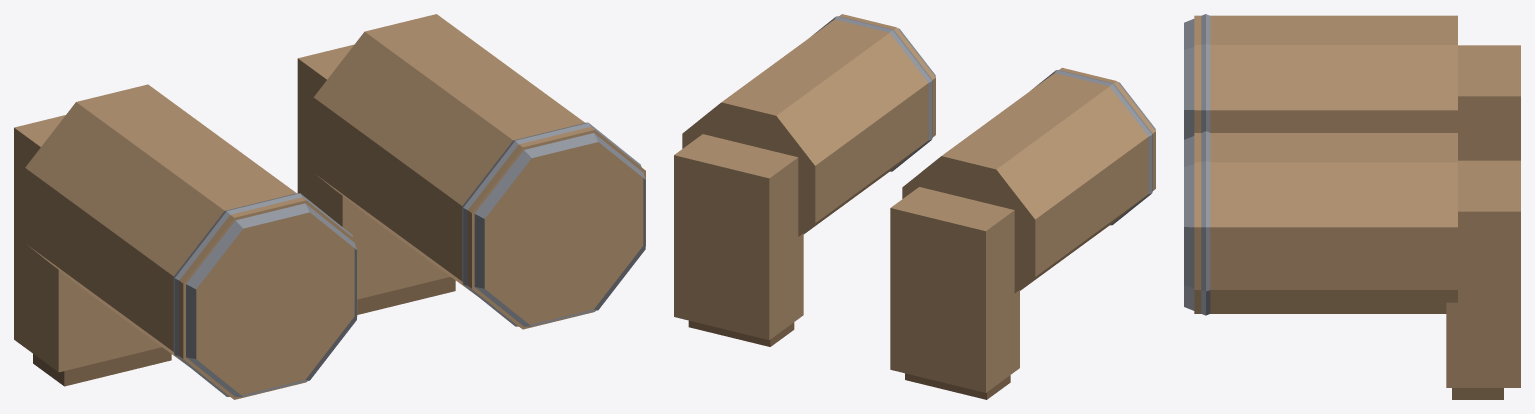
Rendered from boots_tall.glb.
3 views of the same model, side by side, from view 1: azimuth 30°, elevation 25°; view 2: azimuth 150°, elevation 25°; view 3: azimuth 270°, elevation 25° (orthographic). The views are drawn at different scales.
Parts seen in each view (by area): view 1: LowerLegL, LowerLegR, FootR, FootL; view 2: LowerLegR, LowerLegL, FootL, FootR; view 3: LowerLegL, LowerLegR, FootL, FootR.
Part boxes in pixels (box(x1,y1,x2,y2)): LowerLegL: box(313, 14, 645, 329); LowerLegR: box(25, 84, 357, 399); FootR: box(14, 115, 171, 386); FootL: box(297, 44, 455, 314); LowerLegR: box(902, 67, 1155, 293); LowerLegL: box(682, 14, 935, 236); FootL: box(674, 134, 803, 346); FootR: box(890, 187, 1019, 399); LowerLegL: box(1184, 131, 1457, 315); LowerLegR: box(1184, 14, 1457, 139); FootL: box(1446, 160, 1520, 399); FootR: box(1458, 45, 1520, 160).
Size of the model in its own units: 0.7819 by 0.4489 by 0.588.
